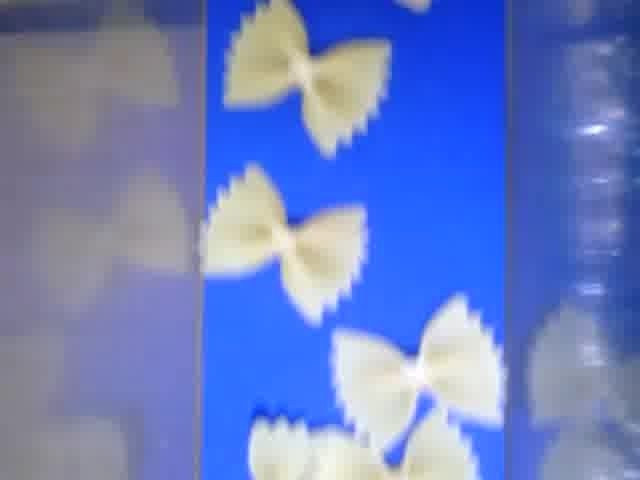farfalle: (200, 162, 370, 325), (331, 293, 505, 452), (221, 1, 393, 159), (325, 407, 479, 480)
